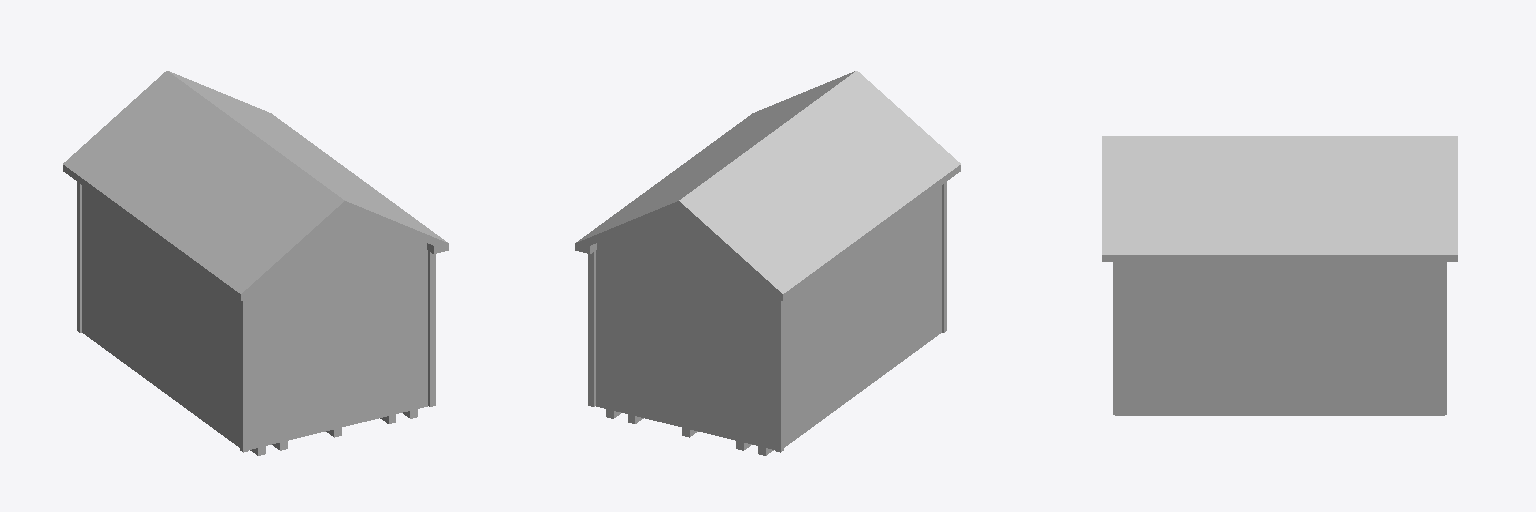
Rendered from Classic A-Frame_8x12.obj.
The picture shows the model from 3 angles: view 1: azimuth 30°, elevation 25°; view 2: azimuth 150°, elevation 25°; view 3: azimuth 270°, elevation 25°; orthographic projection.
Visible parts, largest first — view 1: Classic A-Frame_8x12.obj; view 2: Classic A-Frame_8x12.obj; view 3: Classic A-Frame_8x12.obj.
Boxes of the visible parts, box(x1,y1,x2,y2) form: Classic A-Frame_8x12.obj: box(63, 71, 448, 455); Classic A-Frame_8x12.obj: box(575, 71, 960, 455); Classic A-Frame_8x12.obj: box(1102, 136, 1457, 415).
Size of the model in its own units: 2.68 by 2.96 by 3.96.